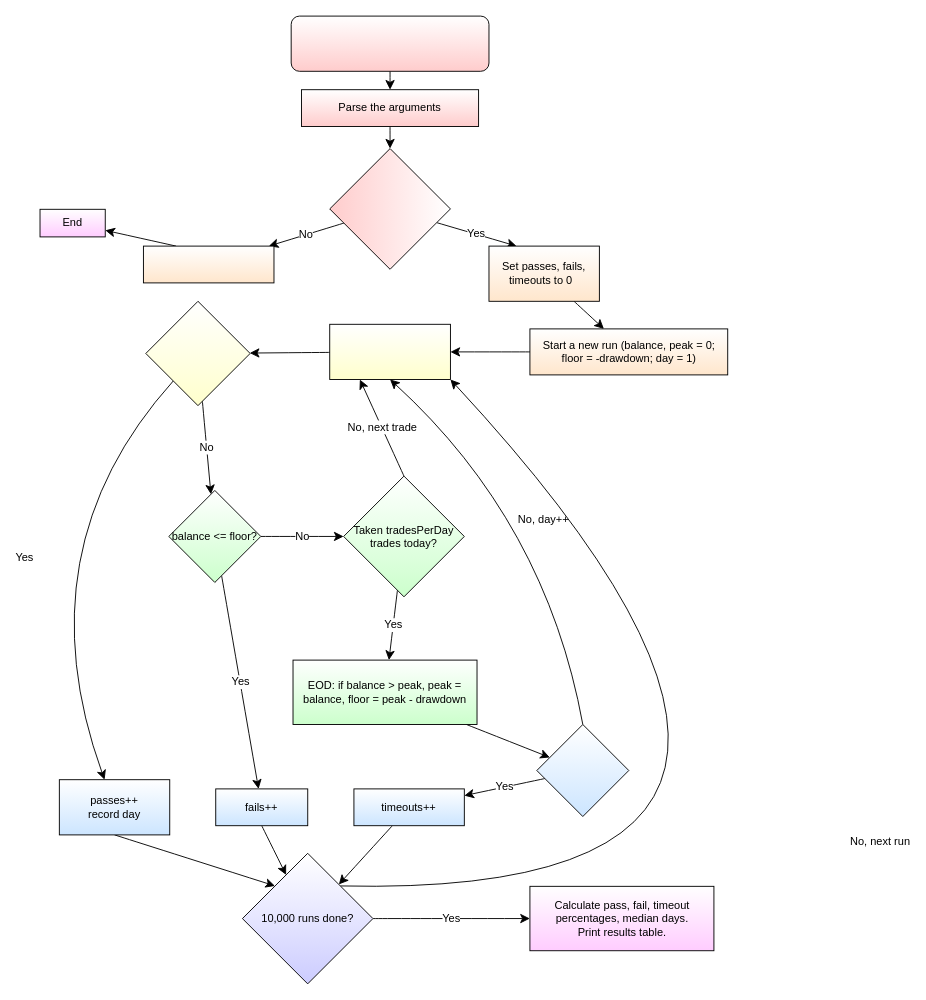
Some shapes in this 926 by 1000 pixel diagram are drawn without their labels. The shapes that lost their labels are listed below. From the top down, each one's centre as x and y in pixels, then its label:
(x=389, y=43): Start PropOdds(6 args)
(x=389, y=208): All the args are present and valid?
(x=208, y=264): Print usage message
(x=197, y=353): balance >= profitTarget?
(x=389, y=351): Take a trade: random < winRate -> +avgWin : -avgLoss
(x=582, y=770): day = 30?
